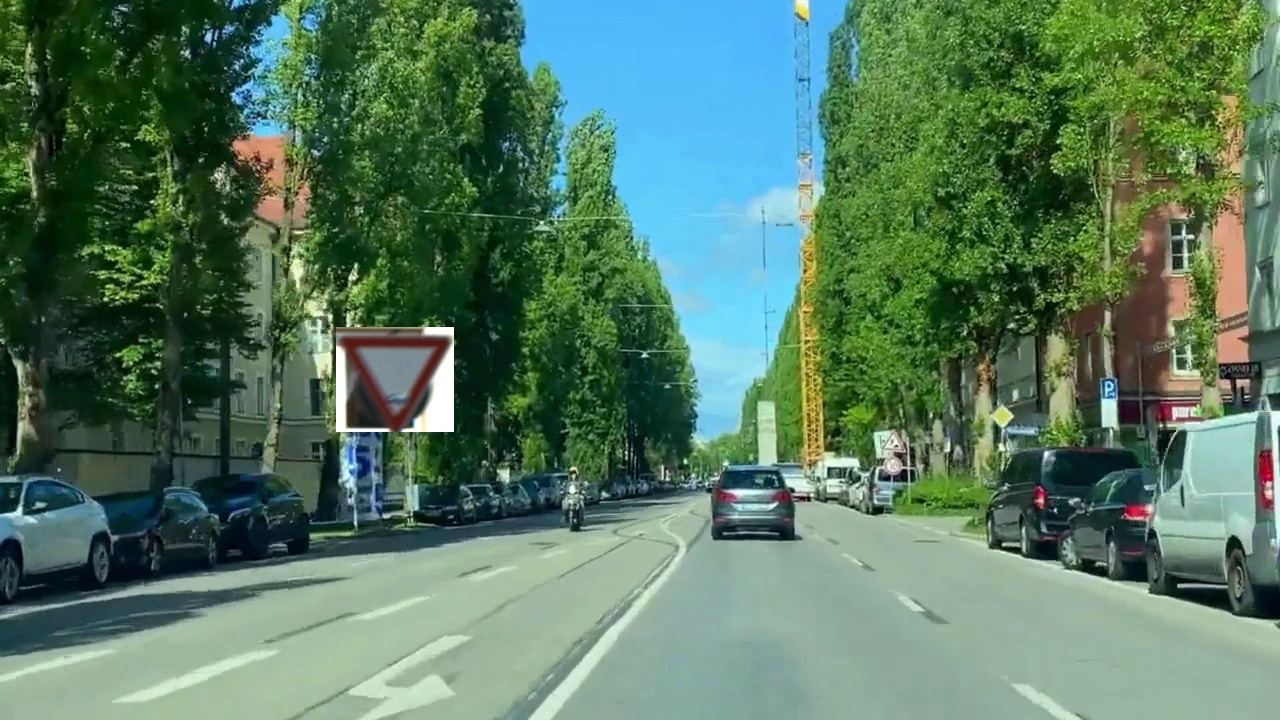Yield: (336, 327, 454, 432)
